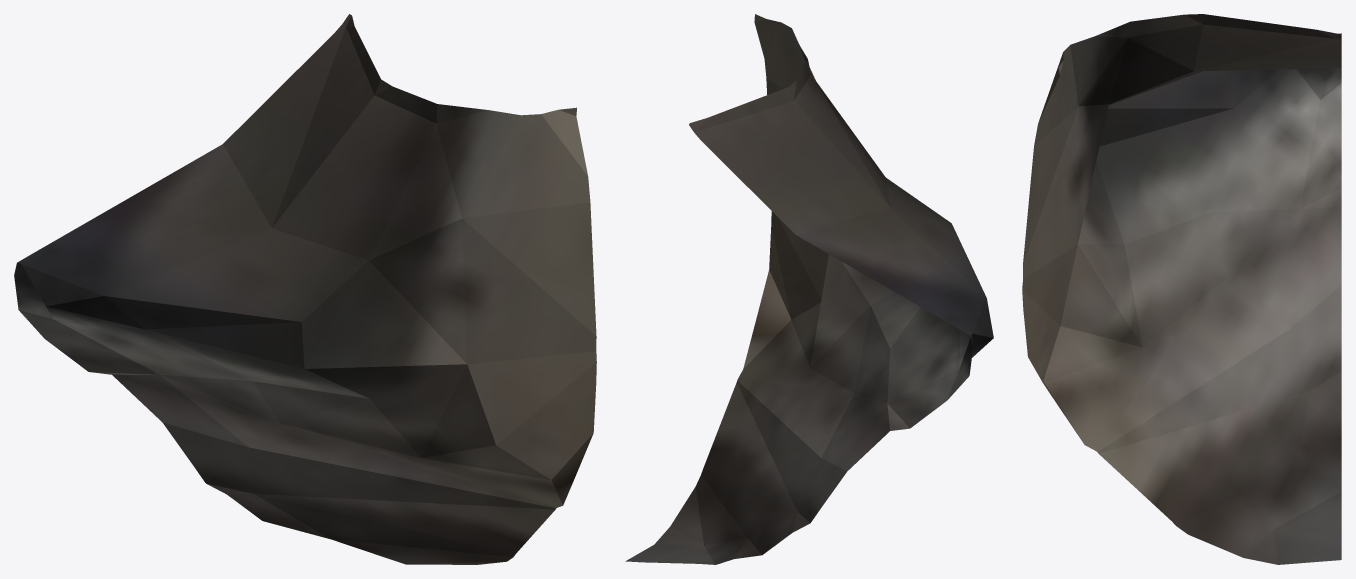
The picture shows the model from 3 angles, left to right: view 1: azimuth 30°, elevation 25°; view 2: azimuth 150°, elevation 25°; view 3: azimuth 270°, elevation 25°; orthographic projection. The views are drawn at different scales.
Bounding box in the file's own units: 0.1161 × 0.1455 × 0.0847.
1 material, 1 textured.
